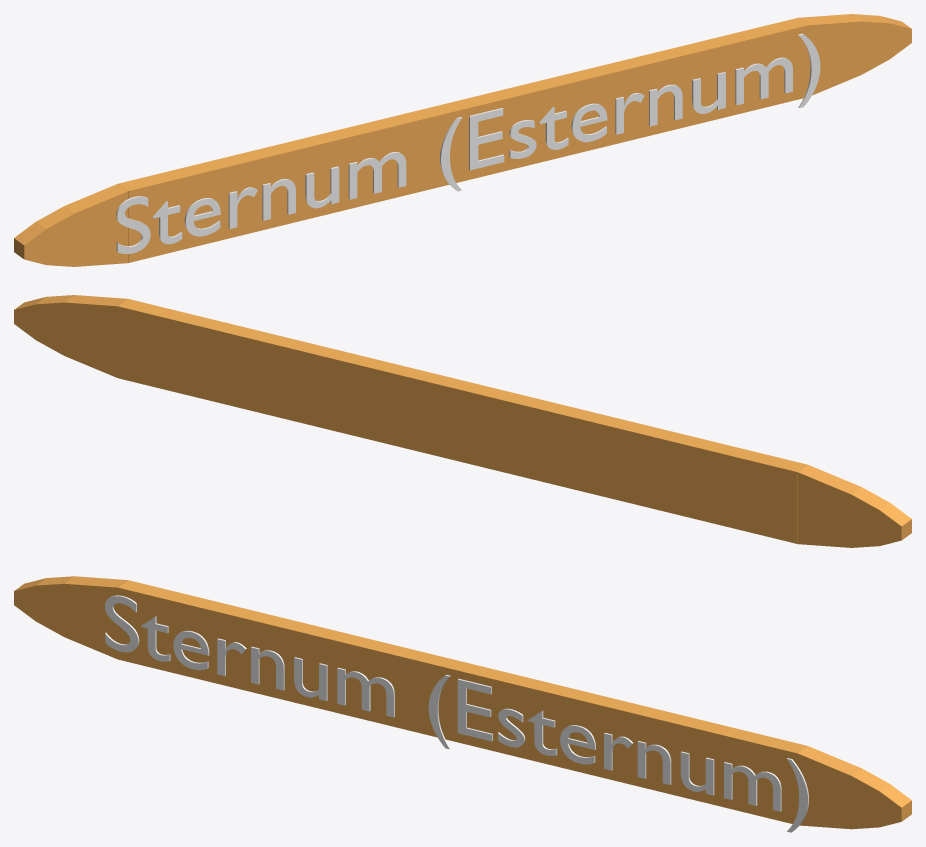
The model's file is txtSternum.fbx.
3 views of the same model, one above another, from view 1: azimuth 30°, elevation 25°; view 2: azimuth 150°, elevation 25°; view 3: azimuth 330°, elevation 25° (orthographic).
Parts seen in each view (by area): view 1: TagContainer.048, Text.049; view 2: TagContainer.048; view 3: TagContainer.048, Text.049.
Part boxes in pixels (bbox=[...]): TagContainer.048: bbox=[14, 14, 911, 266]; Text.049: bbox=[116, 33, 820, 253]; TagContainer.048: bbox=[14, 295, 911, 547]; TagContainer.048: bbox=[14, 576, 911, 829]; Text.049: bbox=[105, 595, 808, 832].
Bounding box in the file's own units: 534 × 45.81 × 11.79.
